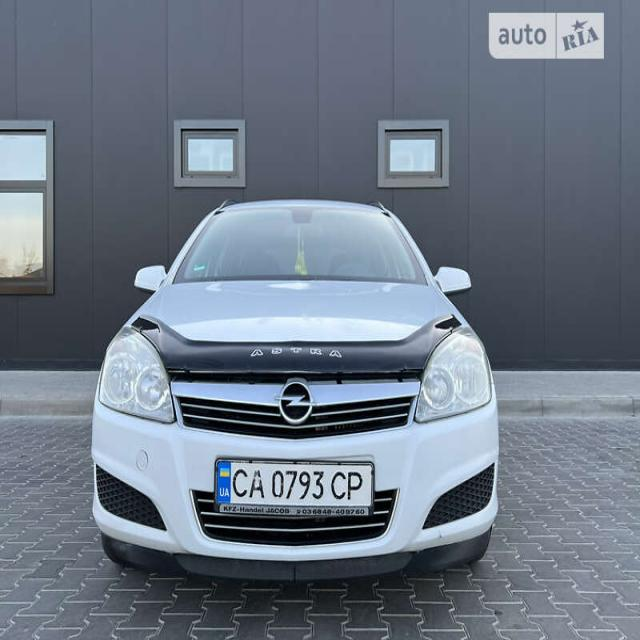plate: (215, 456, 378, 516)
